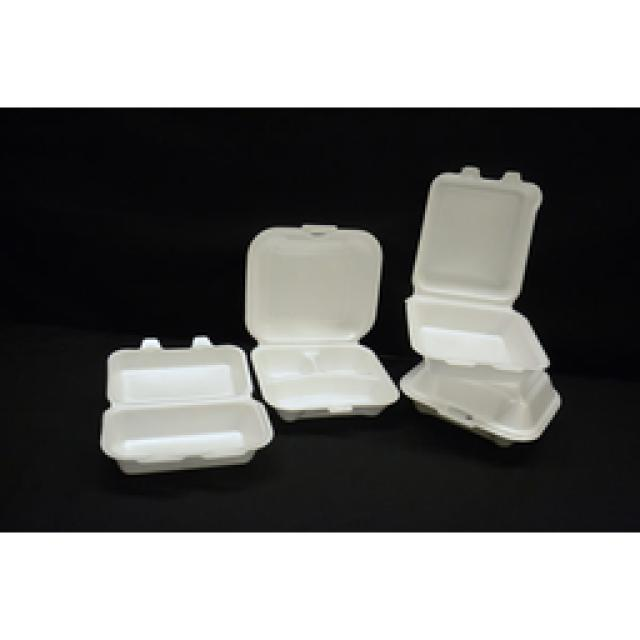styrofoam: (245, 168, 560, 442), (100, 343, 270, 470)
